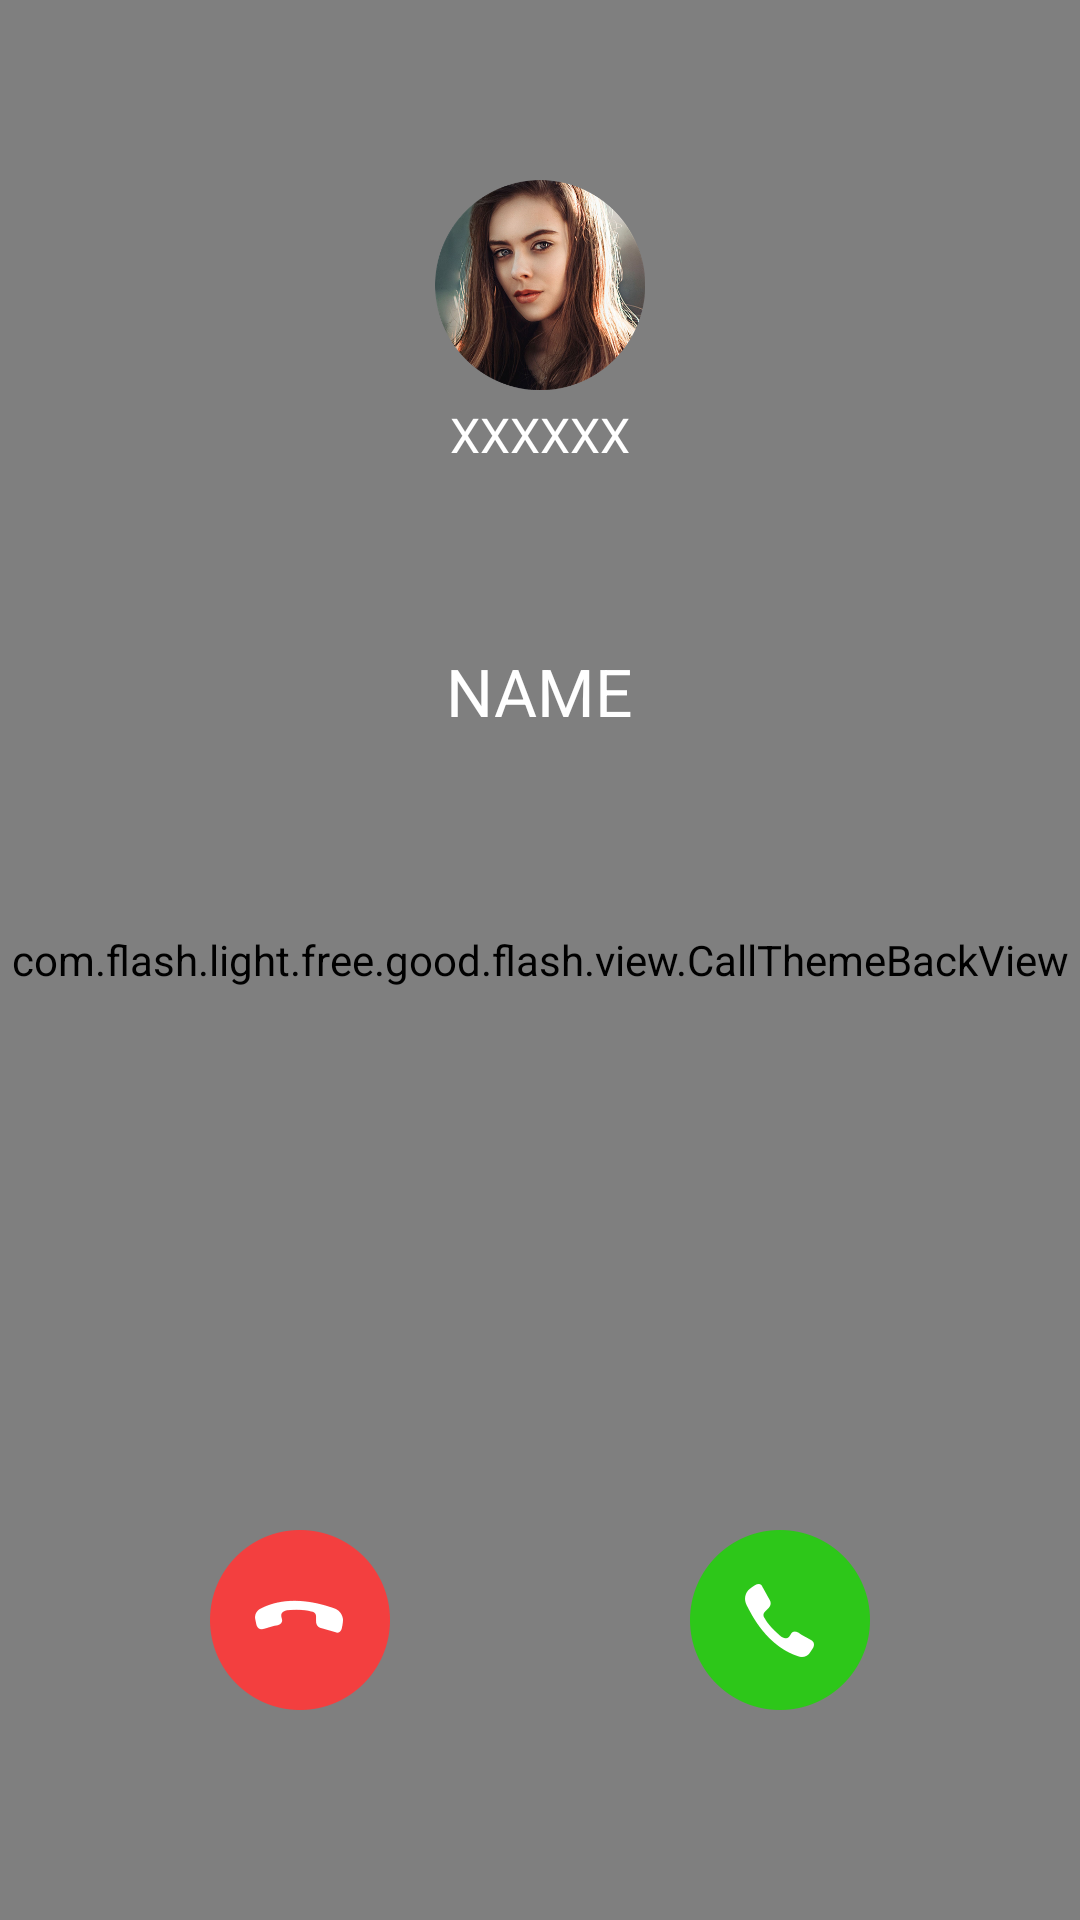

Named icons in this screenshot (1080 × 1920) and their centers, point (x, y):
glint accept: point (780, 1620)
glint refuse: point (300, 1620)
